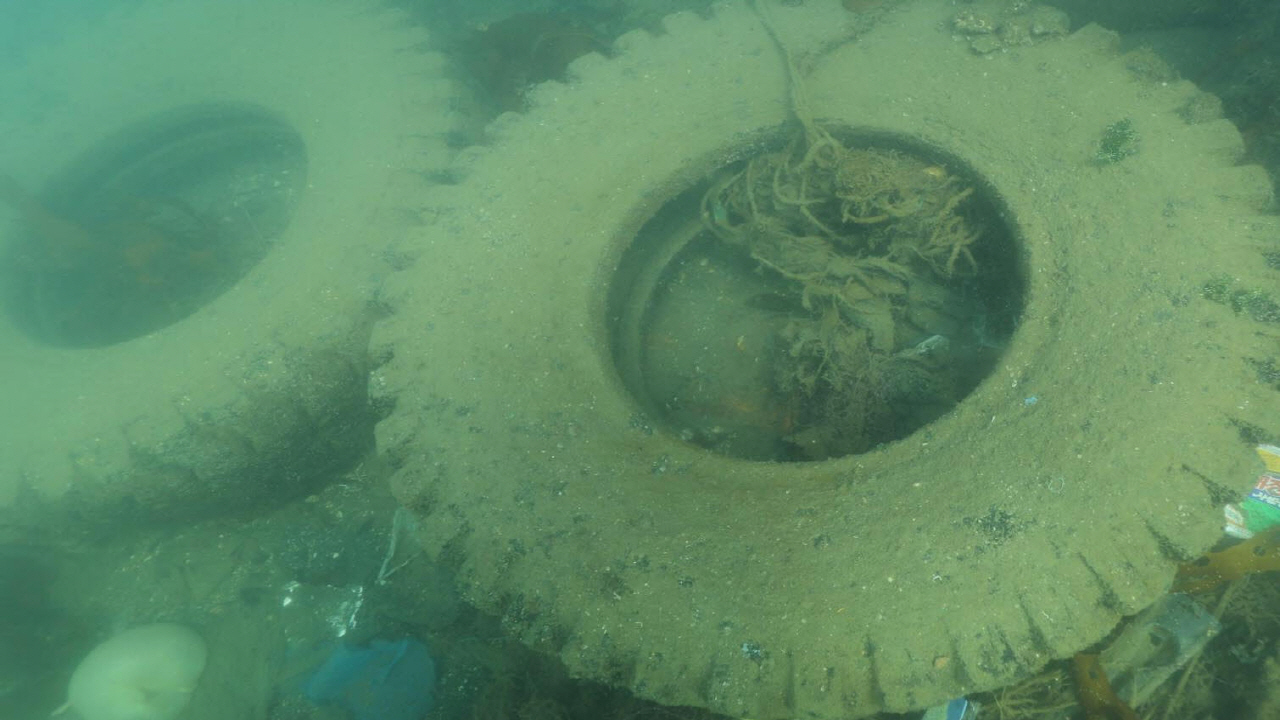bundle of ropes: (703, 0, 974, 327)
tire: (362, 0, 1280, 718), (0, 1, 487, 539)
